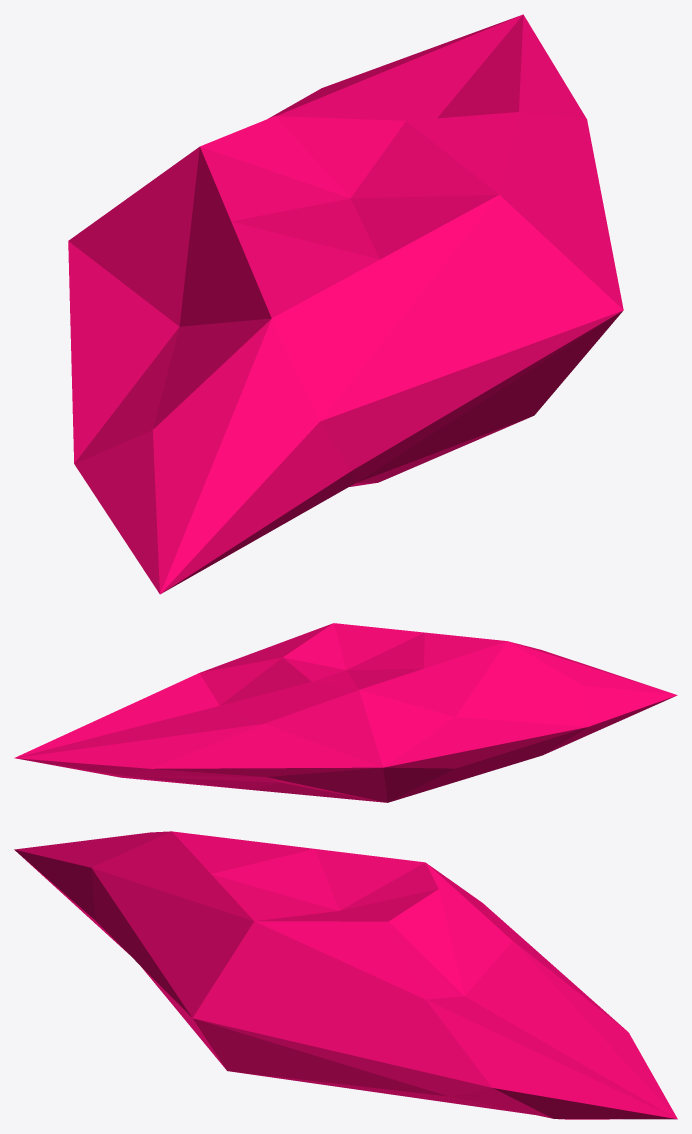
Rendered from Item.fbx.
3 views of the same model, one above another, from view 1: azimuth 30°, elevation 25°; view 2: azimuth 150°, elevation 25°; view 3: azimuth 270°, elevation 25° (orthographic). The views are drawn at different scales.
Visible parts, largest first — view 1: Cube.002; view 2: Cube.002; view 3: Cube.002.
Part boxes in pixels (x1,y1,x2,y2): Cube.002: (68, 14, 623, 594); Cube.002: (14, 623, 677, 802); Cube.002: (14, 831, 677, 1119).
Size of the model in its own units: 111 by 34.04 by 109.
